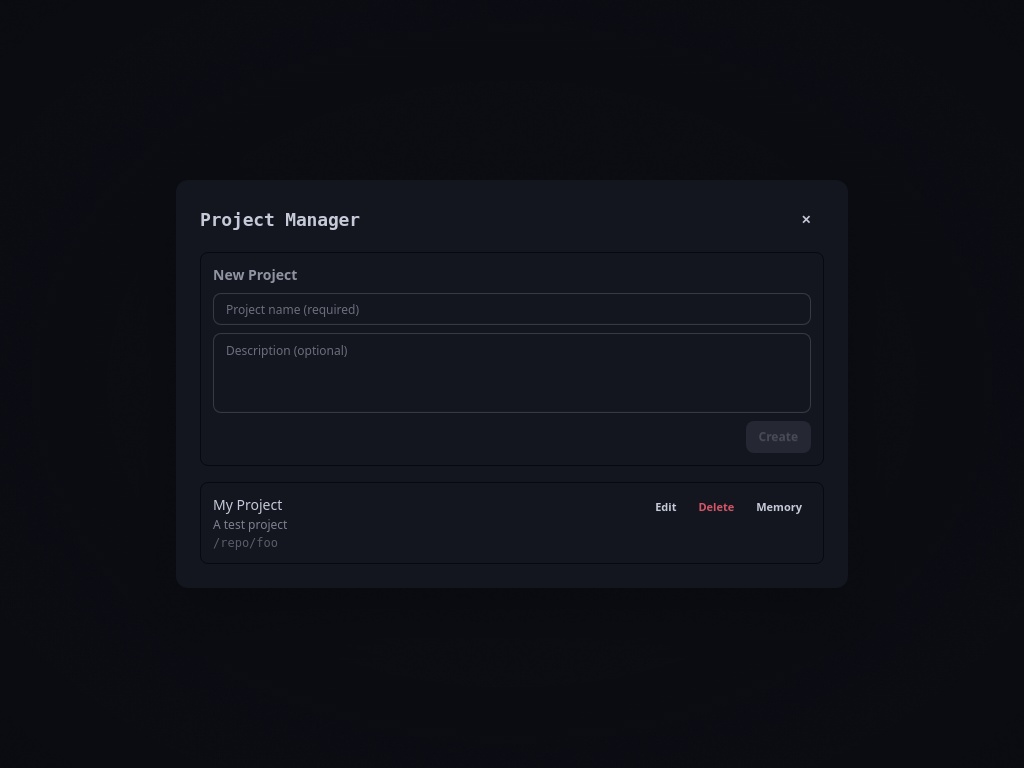
Test: ProjectManagerModal › edit mode › renders path and contextDoc fields when editing
The image size is (1024, 768).
Expected: the text "My Project" is shown, [213,495,287,515]
# Click Edit button
Click the button "Edit" at {"x": 666, "y": 507}, box [646,495,686,519]
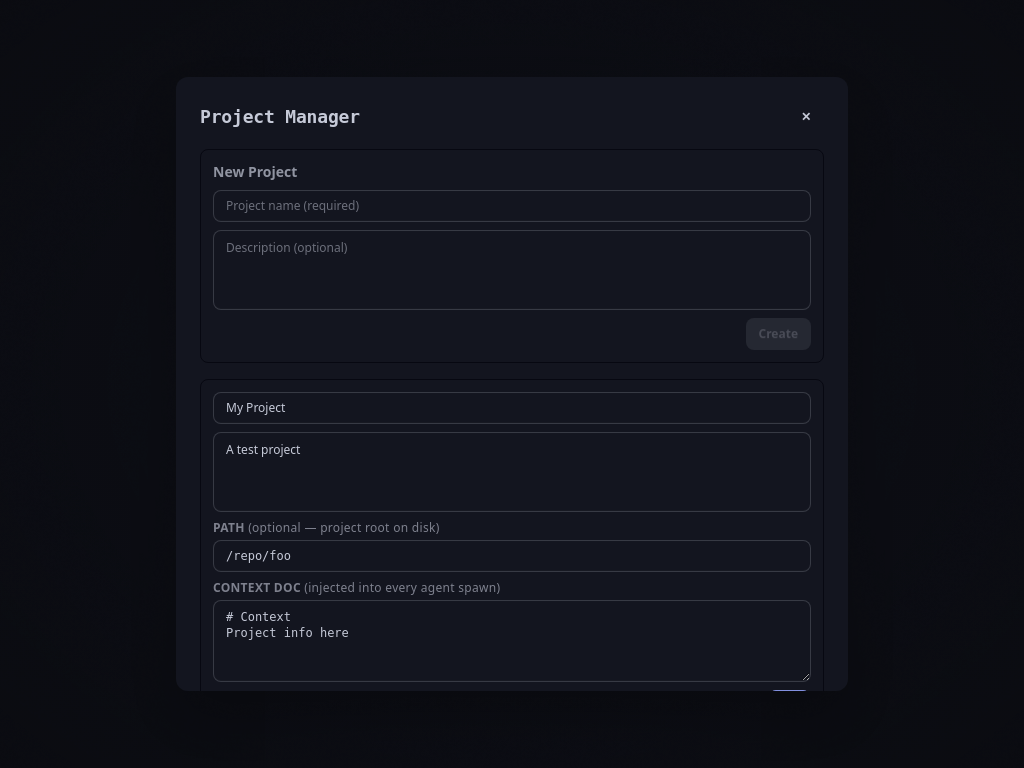
Now the field showing "/repo/foo" below "Path" is shown, box [213,540,811,572]
Now the text box below "Context Doc" is shown, box [213,600,811,682]
